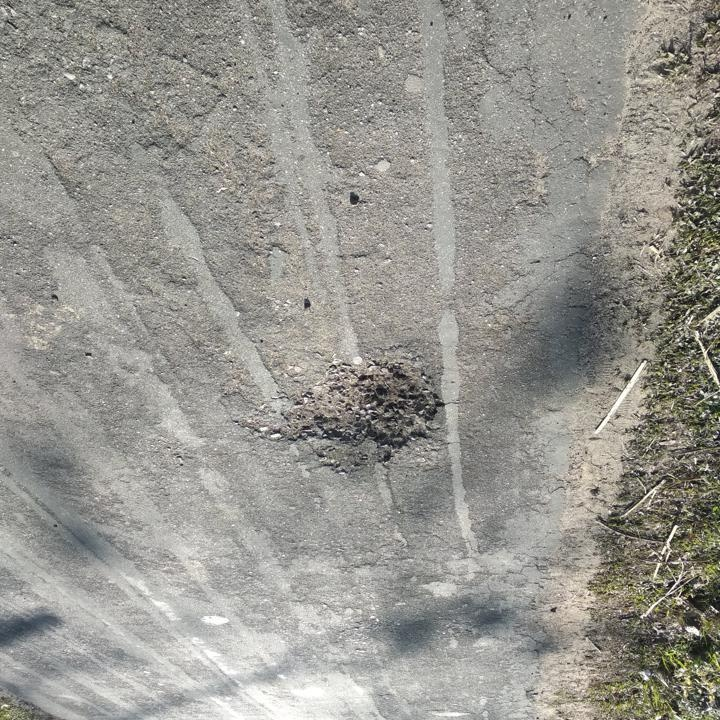pothole: (254, 353, 444, 472)
